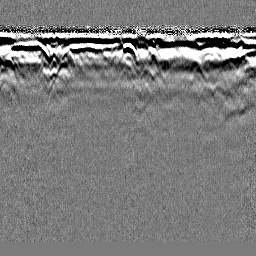cavity: (116, 41, 139, 64)
